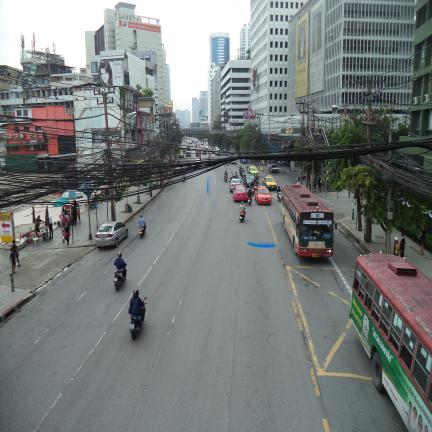bus: (350, 254, 432, 432), (281, 184, 333, 258)
car: (95, 221, 128, 248), (243, 173, 255, 186), (230, 178, 241, 192)
human: (129, 289, 146, 323), (114, 252, 127, 281), (12, 240, 20, 266), (420, 227, 426, 254), (10, 247, 16, 273), (399, 232, 405, 258), (64, 220, 70, 245), (407, 401, 412, 429), (138, 214, 146, 231), (35, 215, 42, 233), (72, 200, 77, 225), (412, 407, 417, 430), (393, 237, 399, 256), (239, 201, 246, 216), (49, 214, 53, 240), (418, 415, 423, 432), (77, 203, 81, 223), (317, 177, 322, 191), (247, 188, 252, 201), (313, 177, 317, 191), (276, 186, 281, 193), (230, 171, 233, 181)
motorbike: (129, 314, 143, 340), (113, 270, 124, 290), (139, 224, 146, 238), (239, 212, 245, 222), (247, 196, 252, 206), (277, 191, 281, 202), (224, 174, 228, 182), (230, 172, 233, 182), (143, 297, 147, 300), (125, 259, 128, 262)
taxi: (255, 187, 271, 204), (233, 185, 247, 202), (262, 176, 277, 190), (247, 165, 259, 175)
